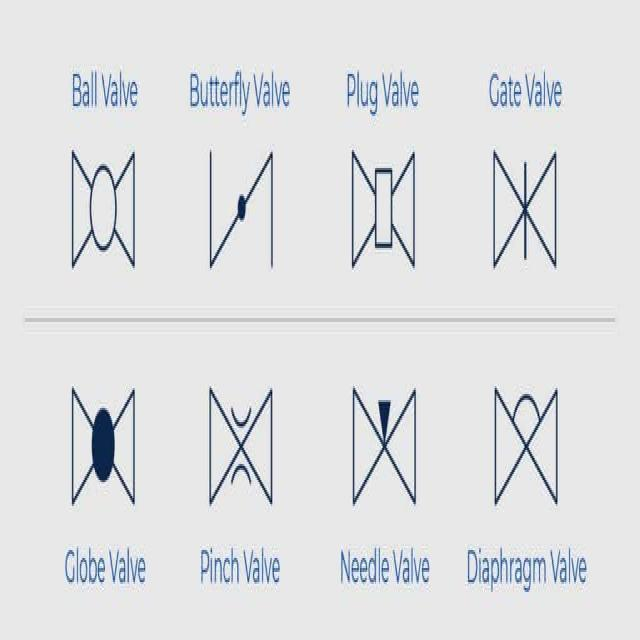Ball Valve: (62, 134, 146, 296)
Butterfly Valve: (198, 120, 292, 291)
Diaphragm Valve: (470, 350, 568, 534)
Globe Valve: (60, 365, 140, 520)
Needle Valve: (338, 332, 430, 518), (486, 148, 584, 296)
Pinch Valve: (200, 368, 290, 516)
Plug Valve: (336, 140, 437, 291)
